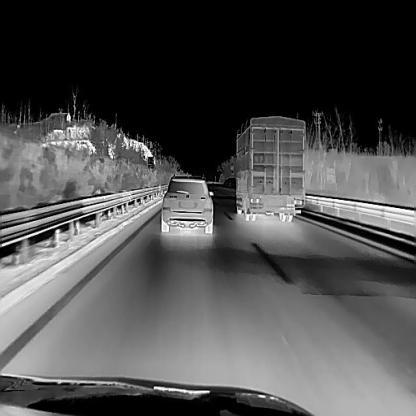car: (229, 115, 305, 223), (161, 172, 213, 233)
